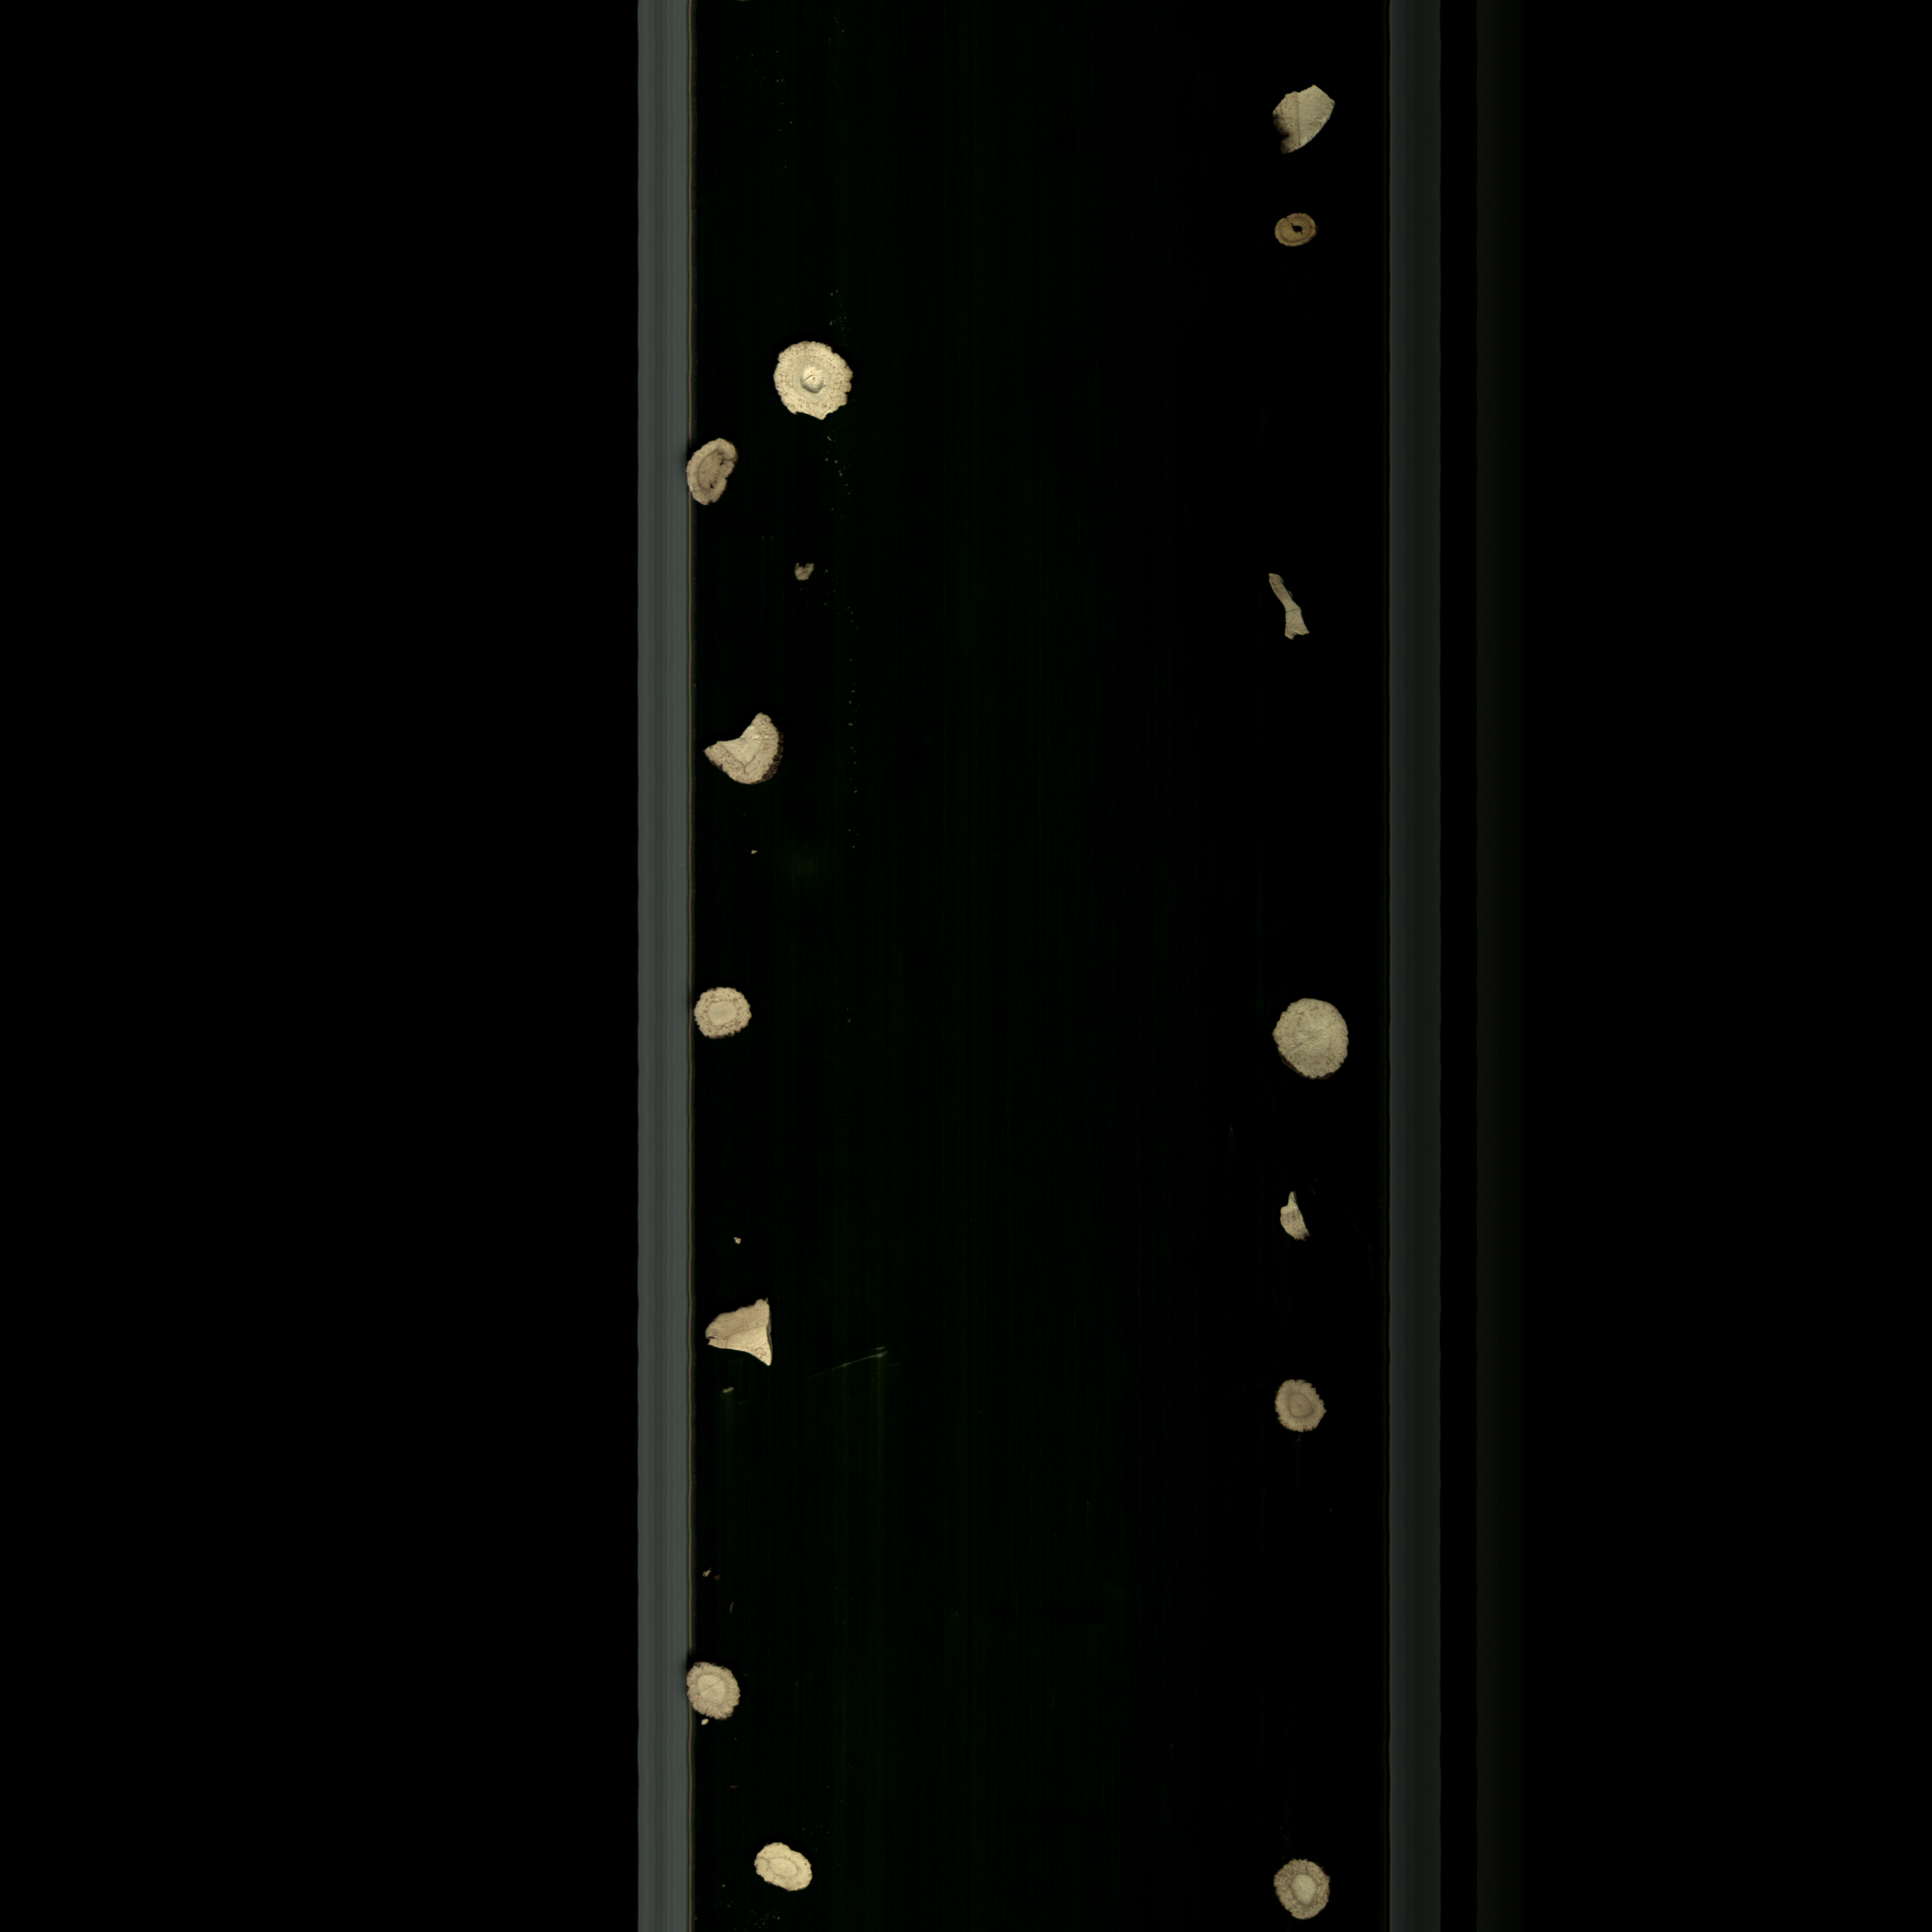debris: (699, 699, 810, 798), (702, 1295, 791, 1380), (1272, 74, 1352, 157)
dreg: (1253, 564, 1329, 656), (1263, 1184, 1320, 1256), (718, 1230, 764, 1260)
moldy: (683, 428, 759, 520), (1260, 1856, 1341, 1928), (1261, 1373, 1341, 1444), (1258, 205, 1330, 262), (782, 556, 826, 587)
